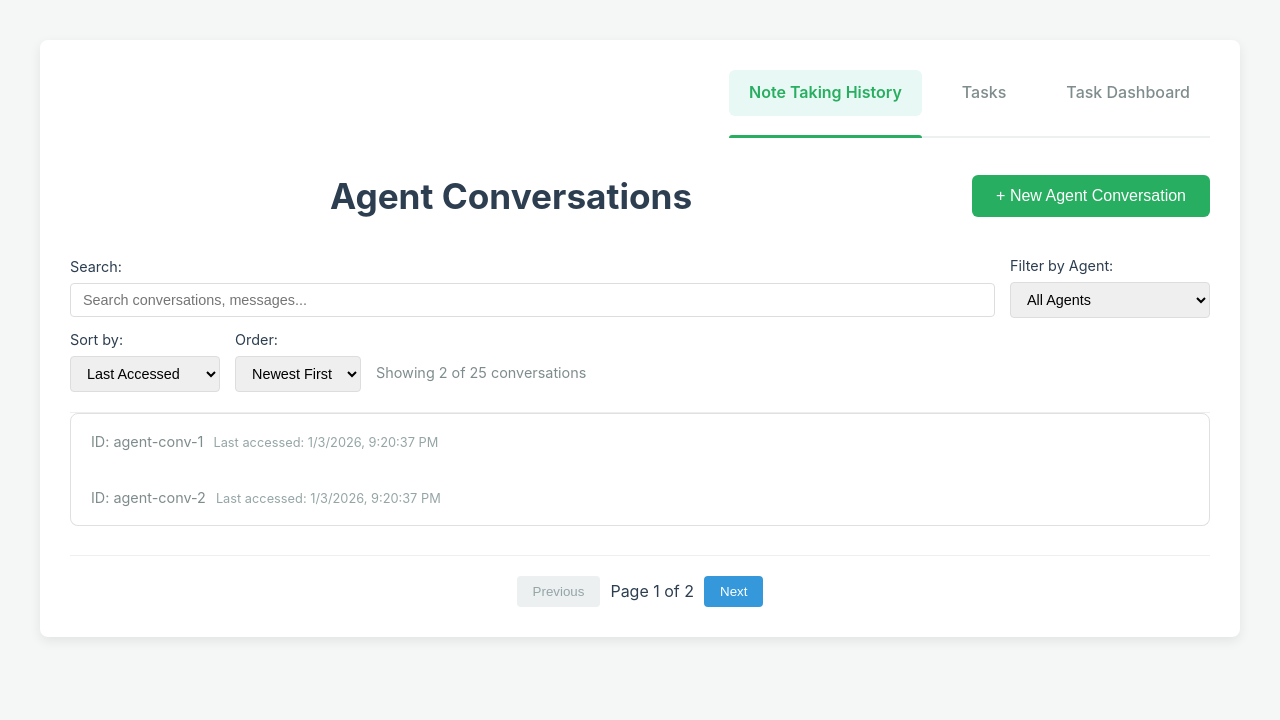
Test case: AgentConversationListView › Pagination › enables Previous button when not on first page
This screenshot has width=1280, height=720.
Click Next to go to page 2
Click the button "Next" at (734, 592), box [704,576,763,607]
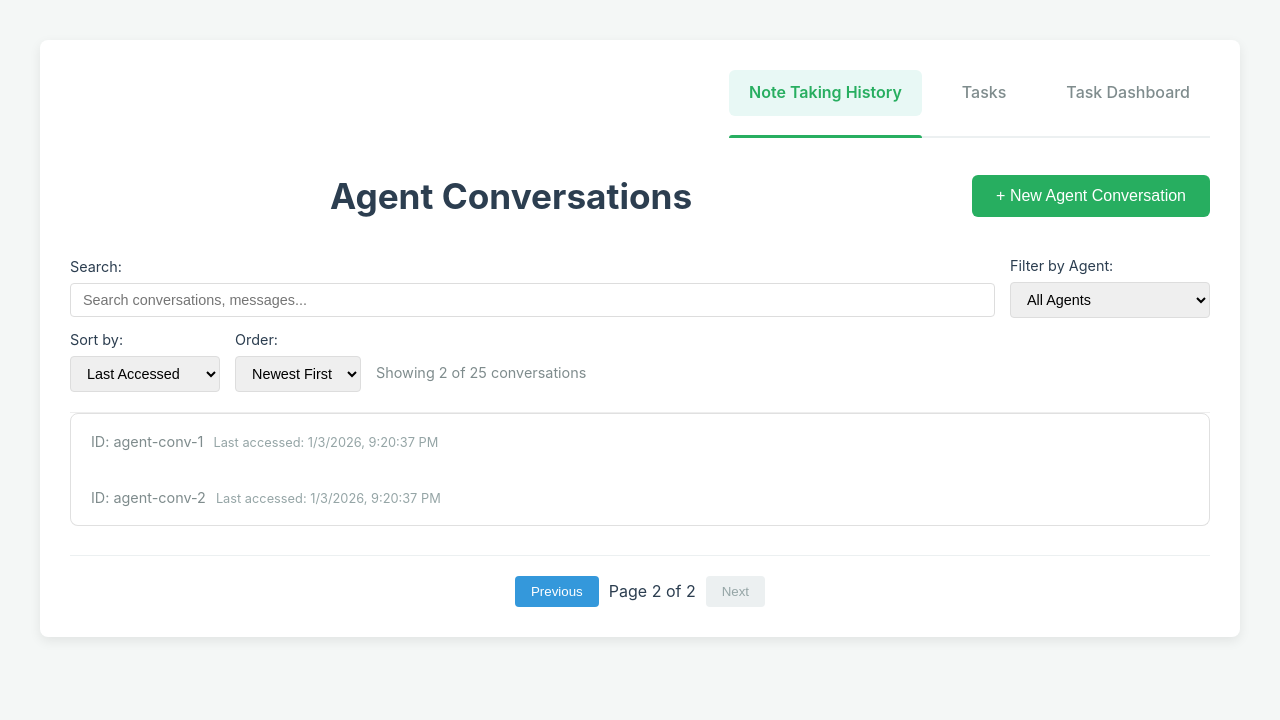
Check: the button "Previous" is enabled, box [515,576,599,607]
